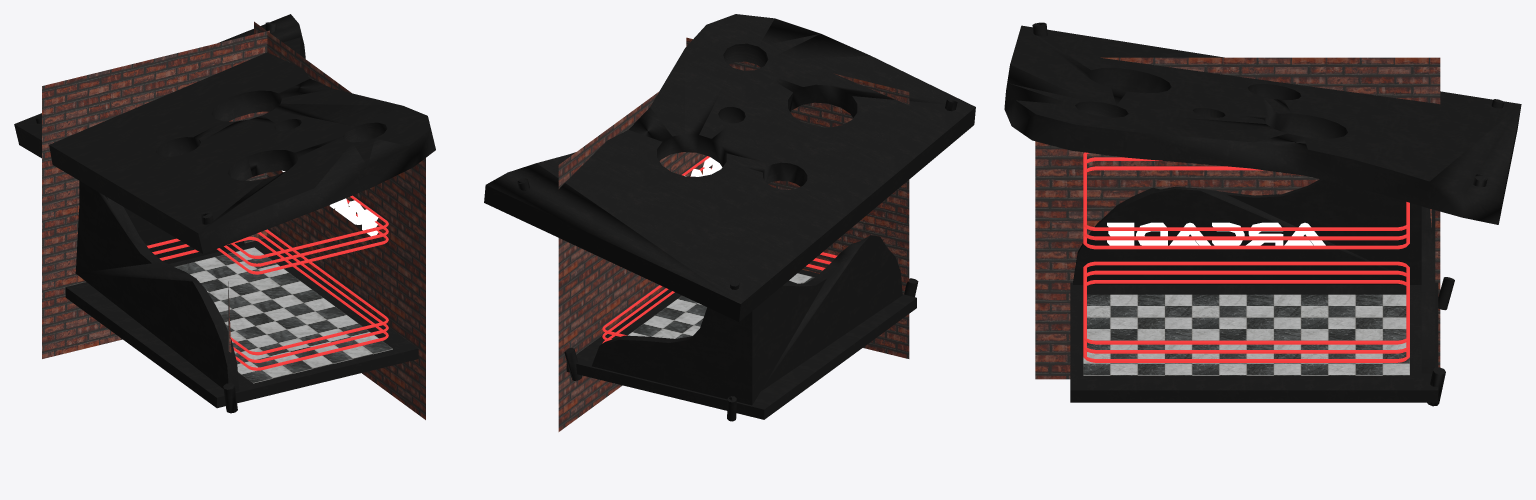
The model's file is arcade_no_machines_2.glb.
3 views of the same model, side by side, from view 1: azimuth 30°, elevation 25°; view 2: azimuth 150°, elevation 25°; view 3: azimuth 270°, elevation 25° (orthographic). The views are drawn at different scales.
Parts seen in each view (by area): view 1: aabooth; view 2: aabooth; view 3: aabooth.
Part boxes in pixels (x1=…): aabooth: x1=14, y1=14, x2=435, y2=419; aabooth: x1=484, y1=14, x2=975, y2=431; aabooth: x1=1004, y1=22, x2=1521, y2=406.
Size of the model in its own units: 12.07 by 12.02 by 15.29.
Materials: 5 (3 with a texture image).
